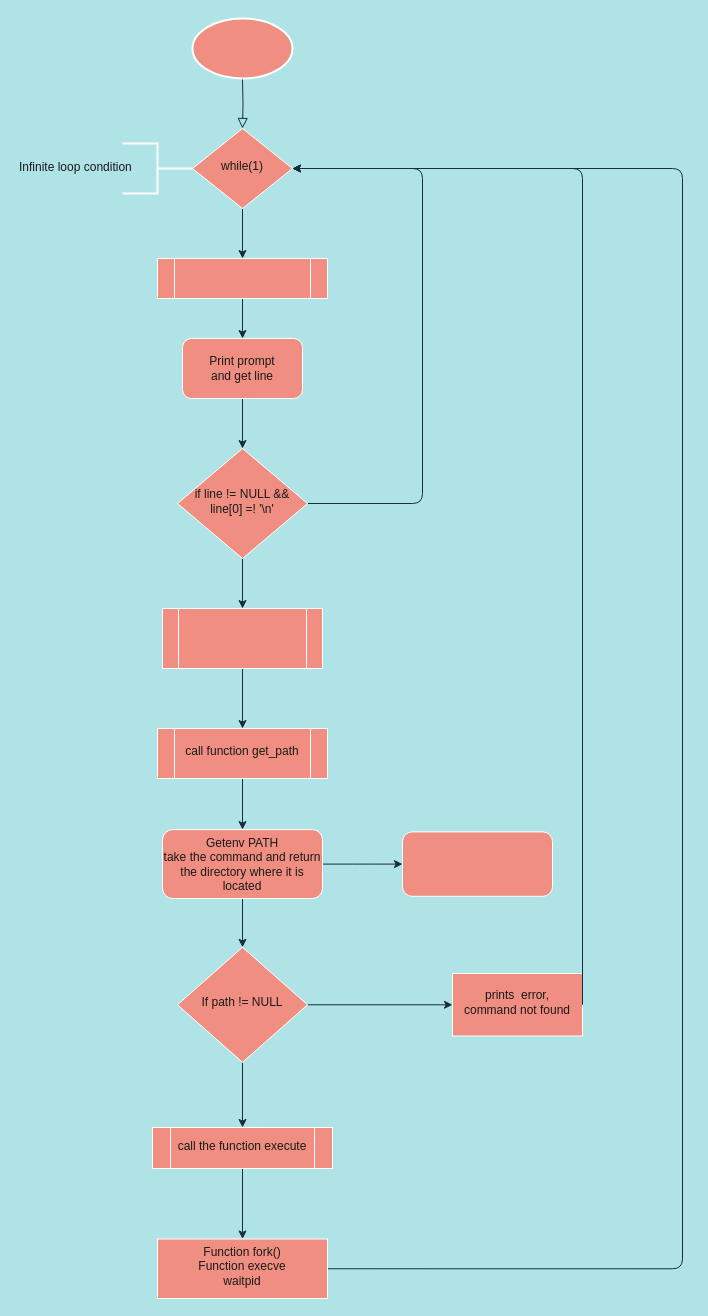
Image size: 708x1316. Some labels were removed from this diagram. The shapes that lost their labels are listed below. From the top down, each one's centre as x and y in pixels, then its label:
[242,48]: Start
[242,278]: call function read_line
[242,638]: call function tokenize tokenize the line
[477,863]: If the command is not found, it returns NULL
